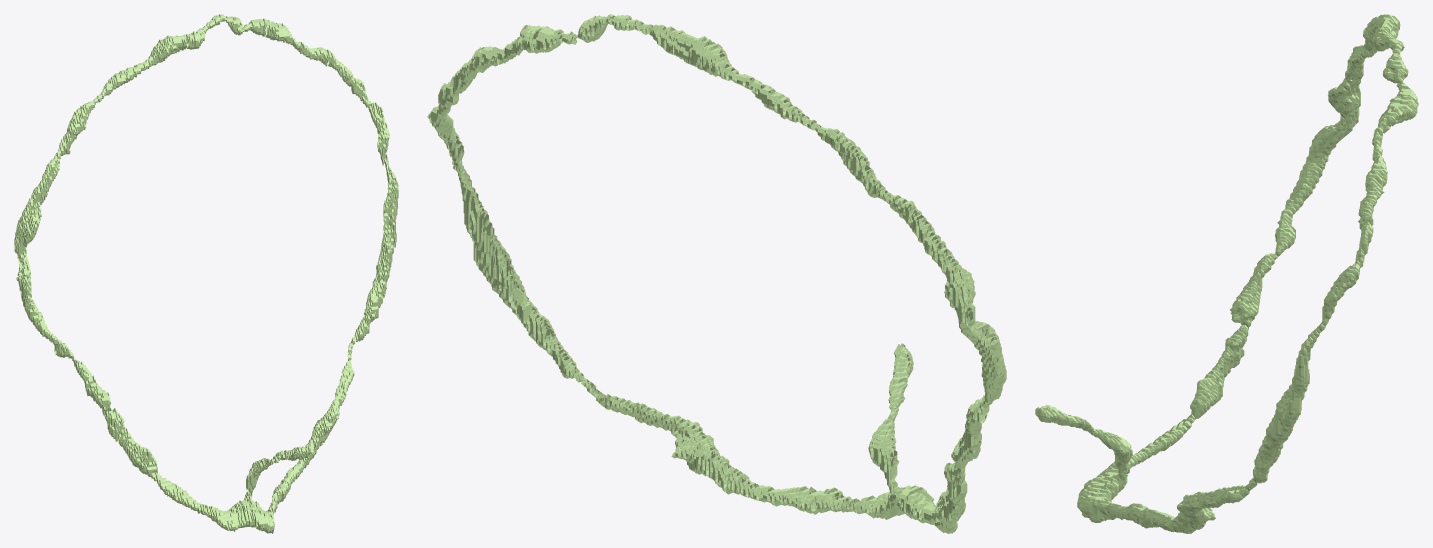
Rendered from SVV_RIR.gltf.
The picture shows the model from 3 angles, left to right: view 1: azimuth 30°, elevation 25°; view 2: azimuth 150°, elevation 25°; view 3: azimuth 270°, elevation 25°; orthographic projection. The views are drawn at different scales.
Parts seen in each view (by area): view 1: RIR; view 2: RIR; view 3: RIR.
Boxes of the visible parts, x1,y1,x2,y2 form: RIR: (14, 14, 398, 533); RIR: (427, 14, 1006, 533); RIR: (1035, 14, 1418, 533).
Bounding box in the file's own units: 128941 × 135217 × 90298.
